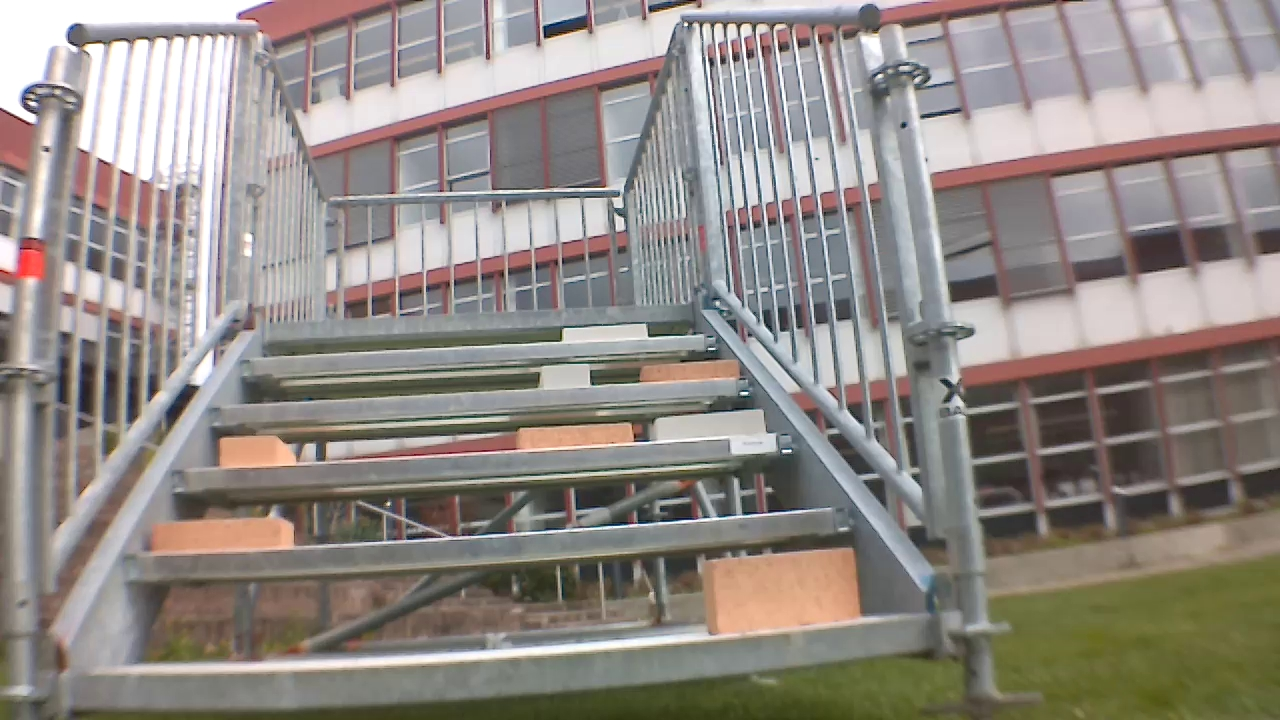brick: (692, 536, 869, 643), (145, 513, 299, 555), (511, 421, 640, 451), (654, 410, 763, 442), (633, 354, 741, 384), (221, 431, 304, 463), (559, 323, 646, 343), (533, 364, 589, 392)
edge: (75, 638, 932, 710), (132, 534, 856, 587), (168, 436, 790, 497), (204, 379, 757, 421), (222, 335, 718, 374), (263, 302, 700, 334)
stairs: (20, 0, 1020, 709)
steps: (63, 300, 938, 714)
